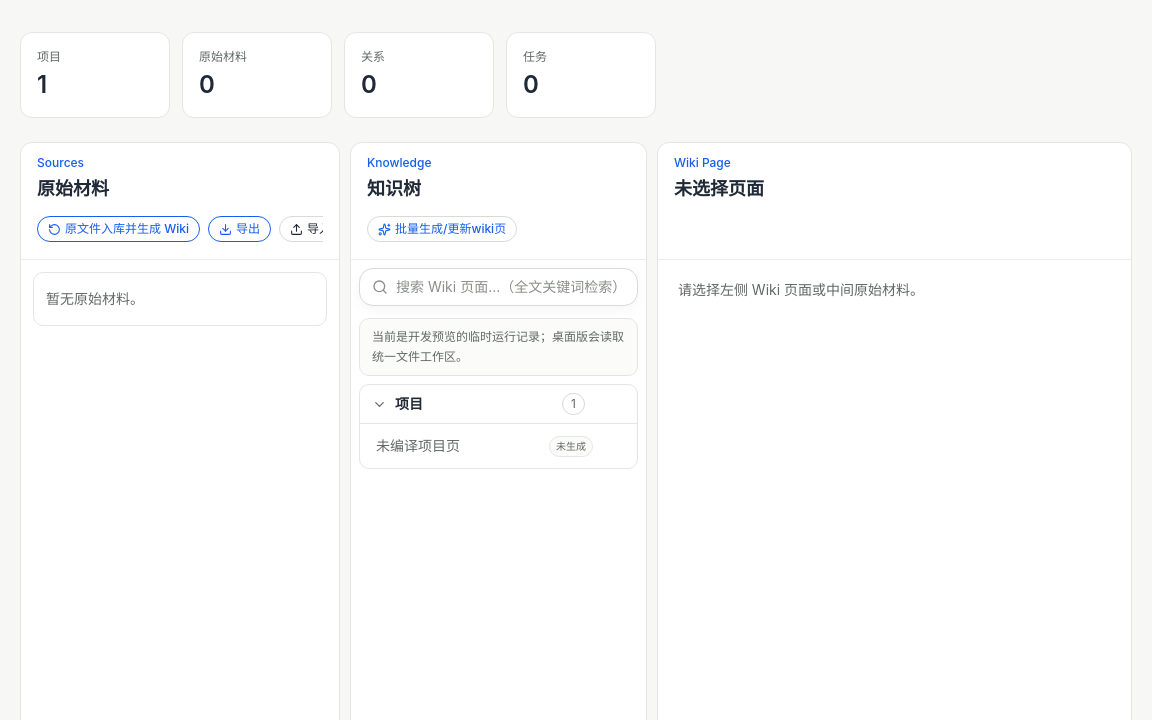
Test: RuntimeWikiPage › also opens a full markdown editor for entities that have not been recompiled yet
This screenshot has width=1152, height=720.
Check: the text "未编译项目页" is shown, box [376, 437, 460, 454]
Click the button "未编译项目页" at (456, 446), box [368, 430, 545, 462]
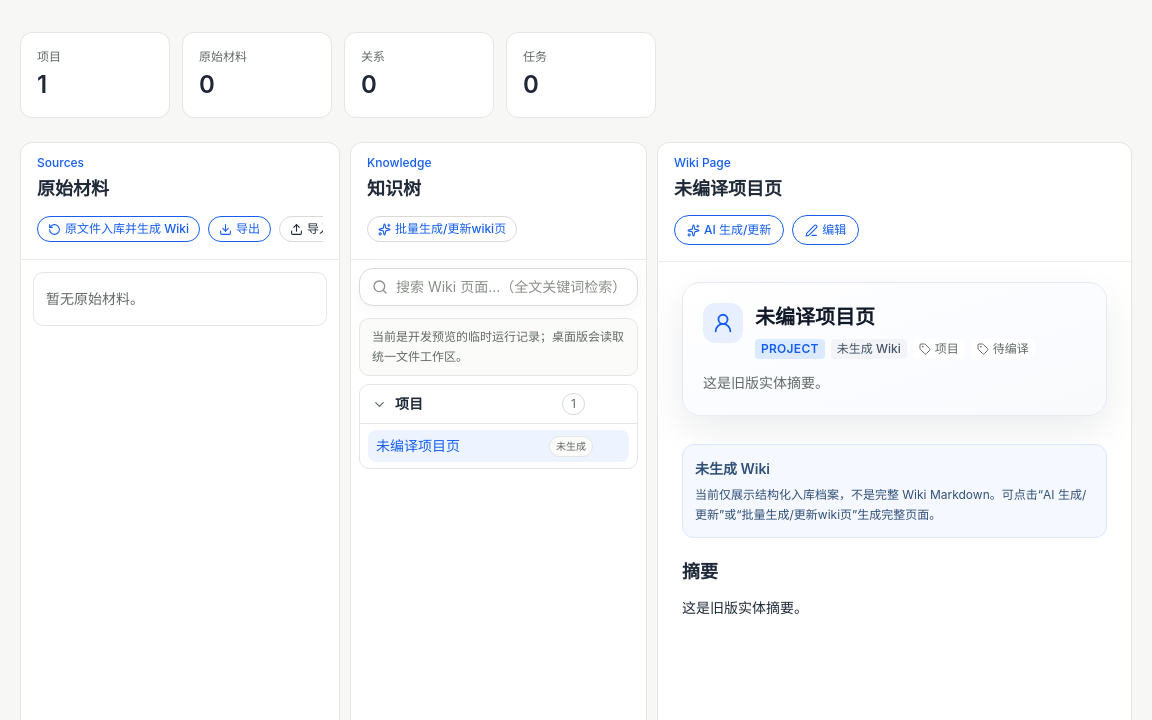
Click the button with aria-label "编辑页面" at (826, 230), box [792, 215, 859, 245]
(page scrolled)
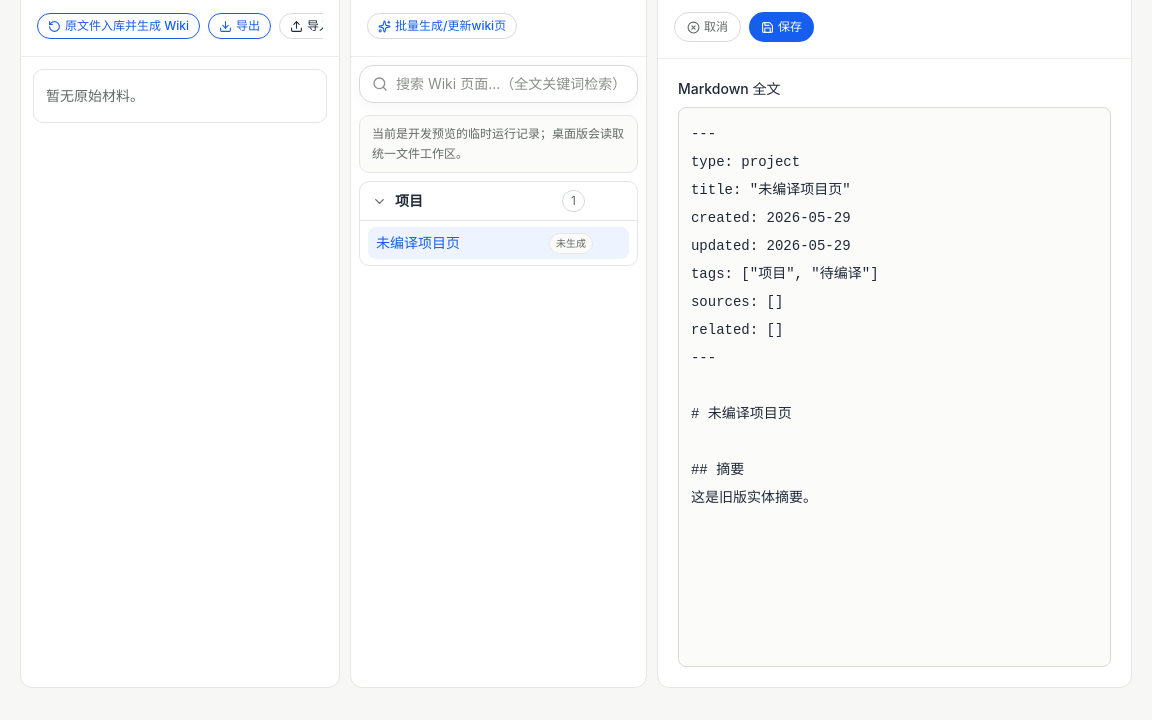
Check: the text box labelled "Markdown 全文" is shown, box [678, 107, 1111, 667]
